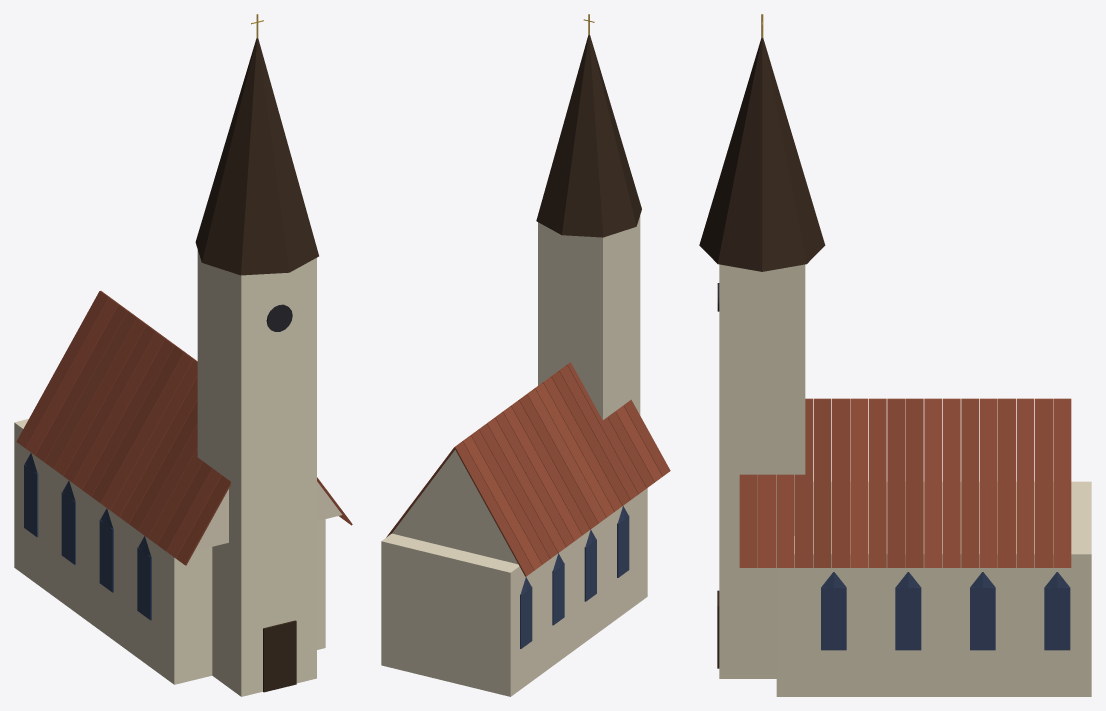
The model's file is church_2.glb.
3 renders of one model, left to right at view 1: azimuth 30°, elevation 25°; view 2: azimuth 150°, elevation 25°; view 3: azimuth 270°, elevation 25°, orthographic. The views are drawn at different scales.
Visible parts, largest first — view 1: church2_plaster, church2_tiles, church2_glass, church2_wood; view 2: church2_plaster, church2_tiles, church2_glass; view 3: church2_tiles, church2_plaster, church2_glass.
Part boxes in pixels (x1,y1,x2,y2): church2_plaster: (14,250,342,696); church2_tiles: (16,38,352,565); church2_glass: (24,304,292,620); church2_wood: (263,620,296,692); church2_plaster: (381,215,647,696); church2_tiles: (386,35,670,576); church2_glass: (520,506,629,648); church2_tiles: (699,38,1071,567); church2_plaster: (719,264,1091,696); church2_glass: (717,283,1070,650).
Bounding box in the file's own units: 6.65 × 24.9 × 13.7.
